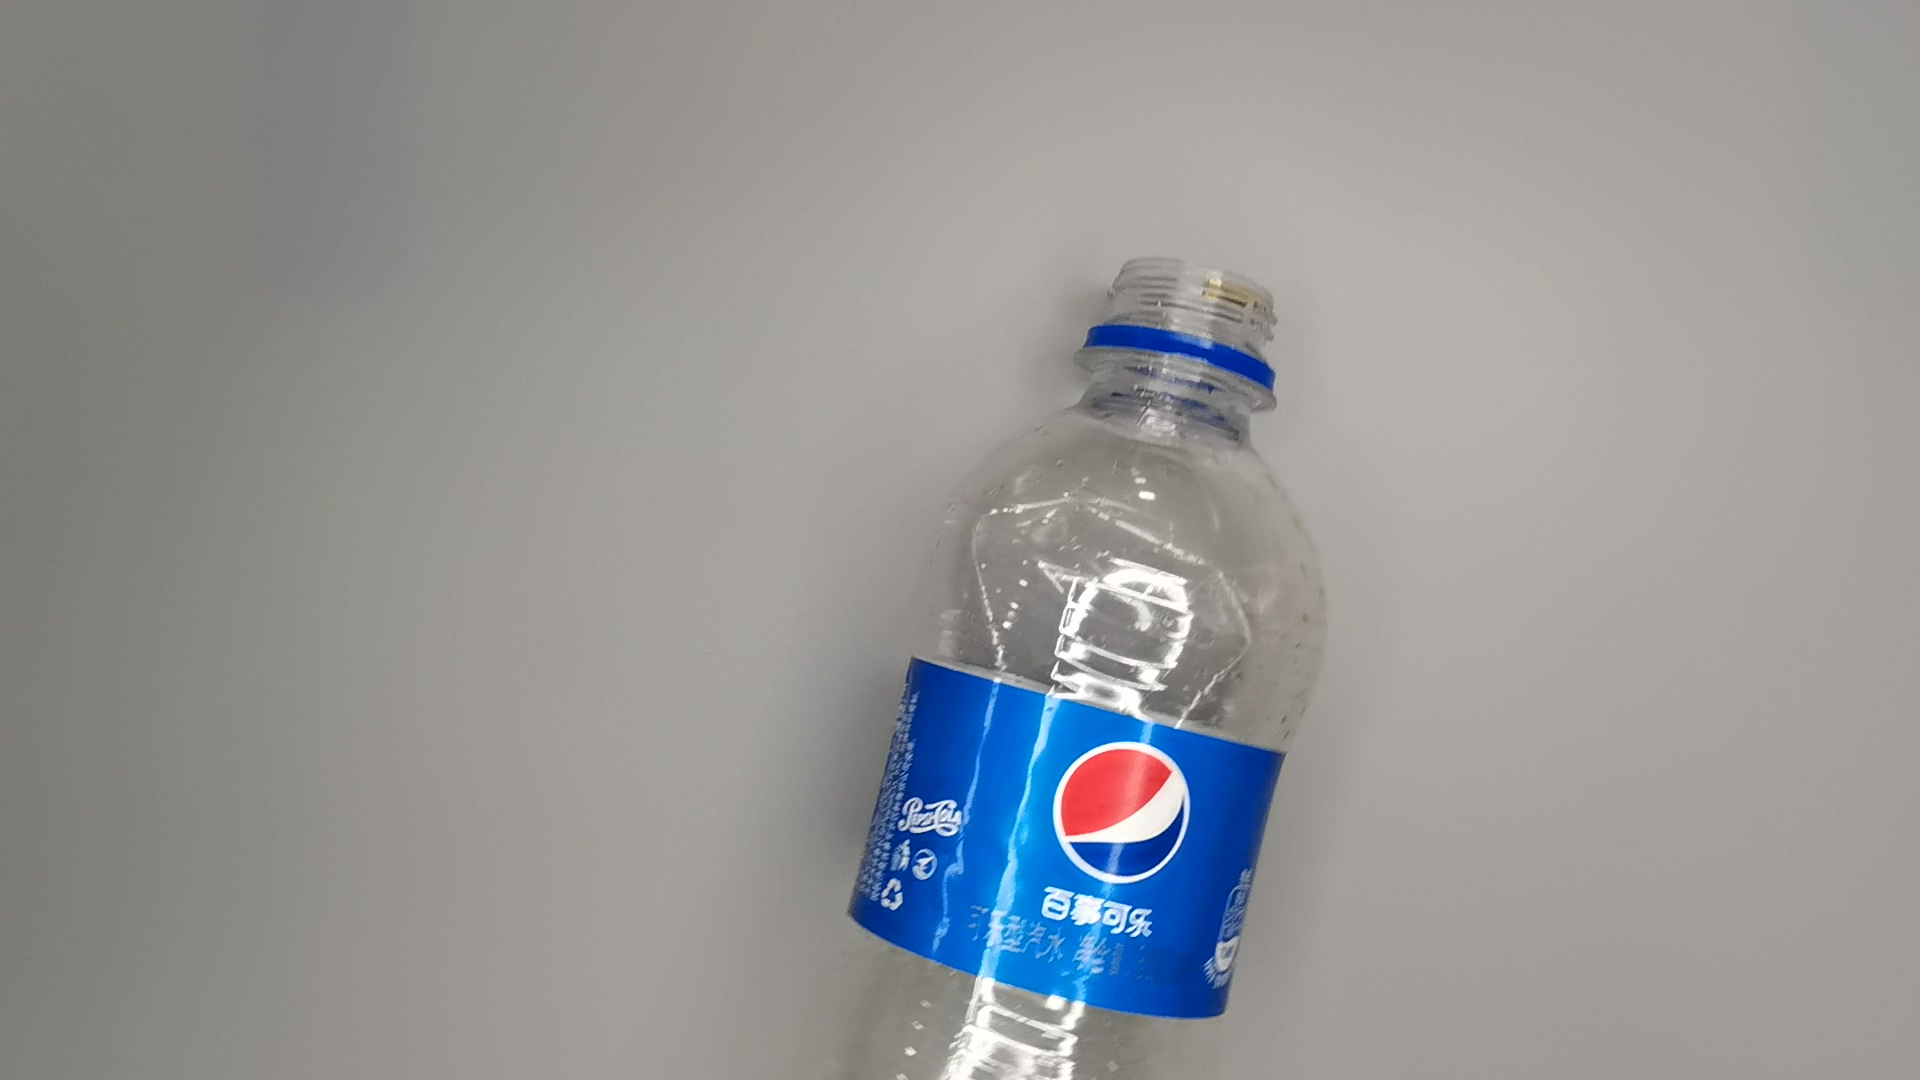bottle: (812, 247, 1336, 1080)
